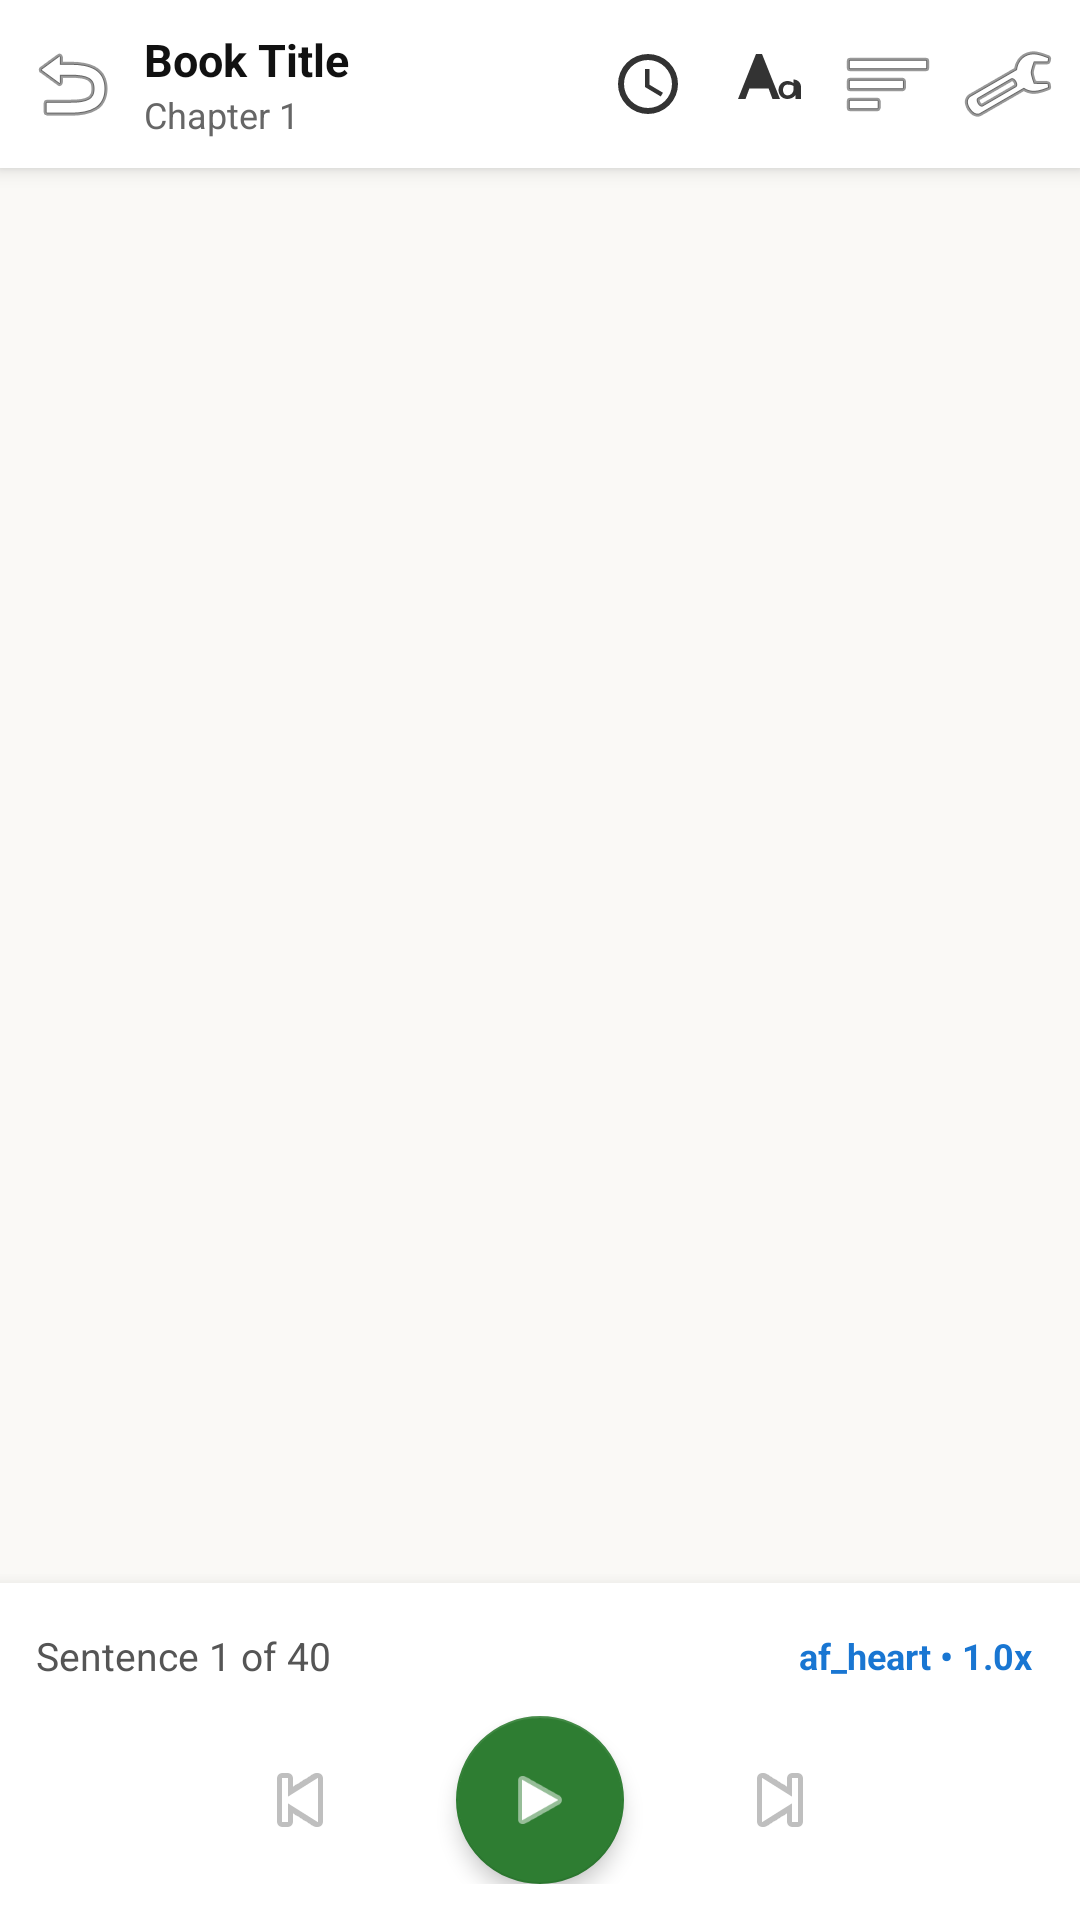

Named icons in this screenshot (1080×1920) and their bounding boxes, (x1, y1, x2, y2):
Appearance & Themes: (738, 54, 801, 99)
Back: (39, 53, 108, 116)
Next Sentence: (757, 1773, 803, 1827)
Play or Pause: (456, 1716, 624, 1884)
Previous Sentence: (277, 1773, 323, 1827)
Sleep Timer: (618, 54, 678, 114)
Table of Contents: (847, 58, 929, 111)
